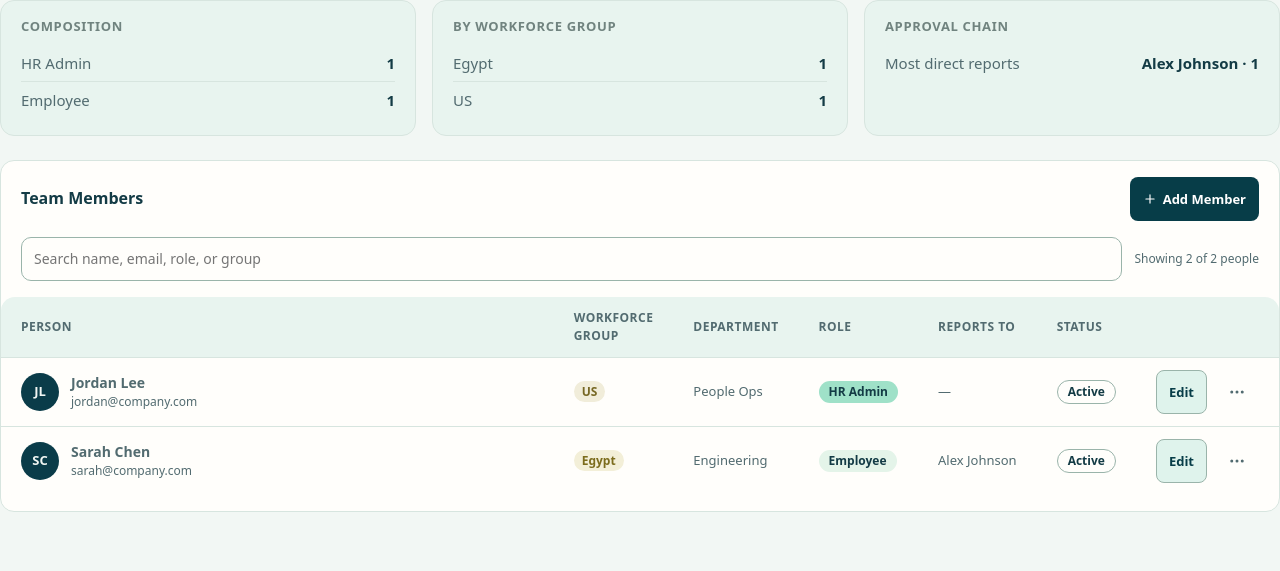
TeamMembersCard accessibility ATDD — Story 10.10 › [P0] exposes member-qualified Edit and Deactivate accessible names
Check: the 1st button "Edit" is shown, box [1156,370,1207,414]
Check: the button "Edit" in the row of "SC" is shown, box [1156,438,1207,482]
Click the button named "More actions: Sarah Chen" at [1237, 460], box [1215,438,1259,482]
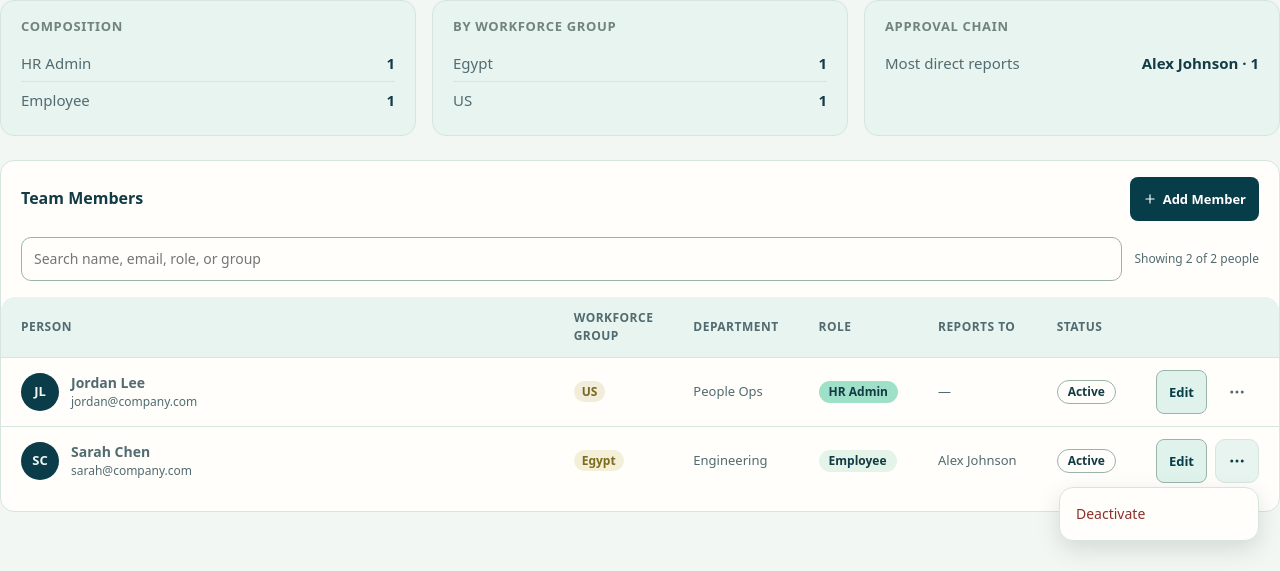
Check: the menu item "Deactivate" is shown, box [1060,492,1258,536]
